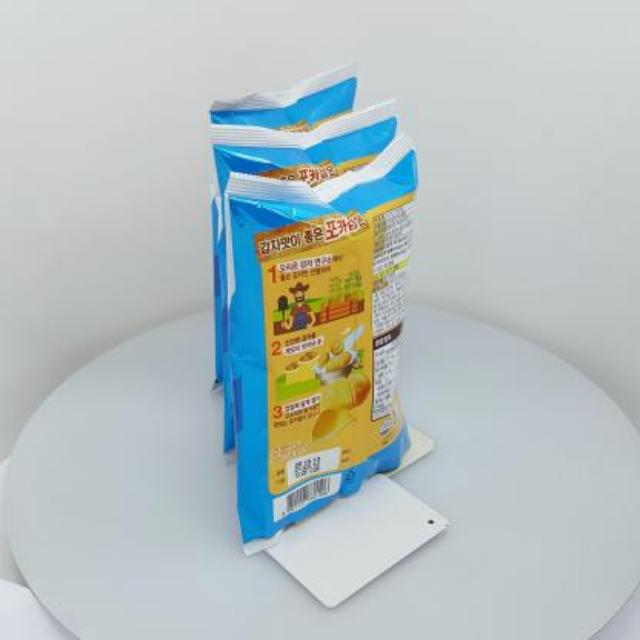snack_bag: (142, 46, 506, 570)
